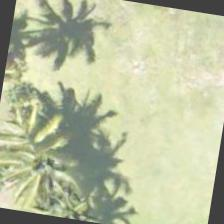Kelapa_Sawit: (0, 125, 96, 220), (0, 85, 82, 187)
